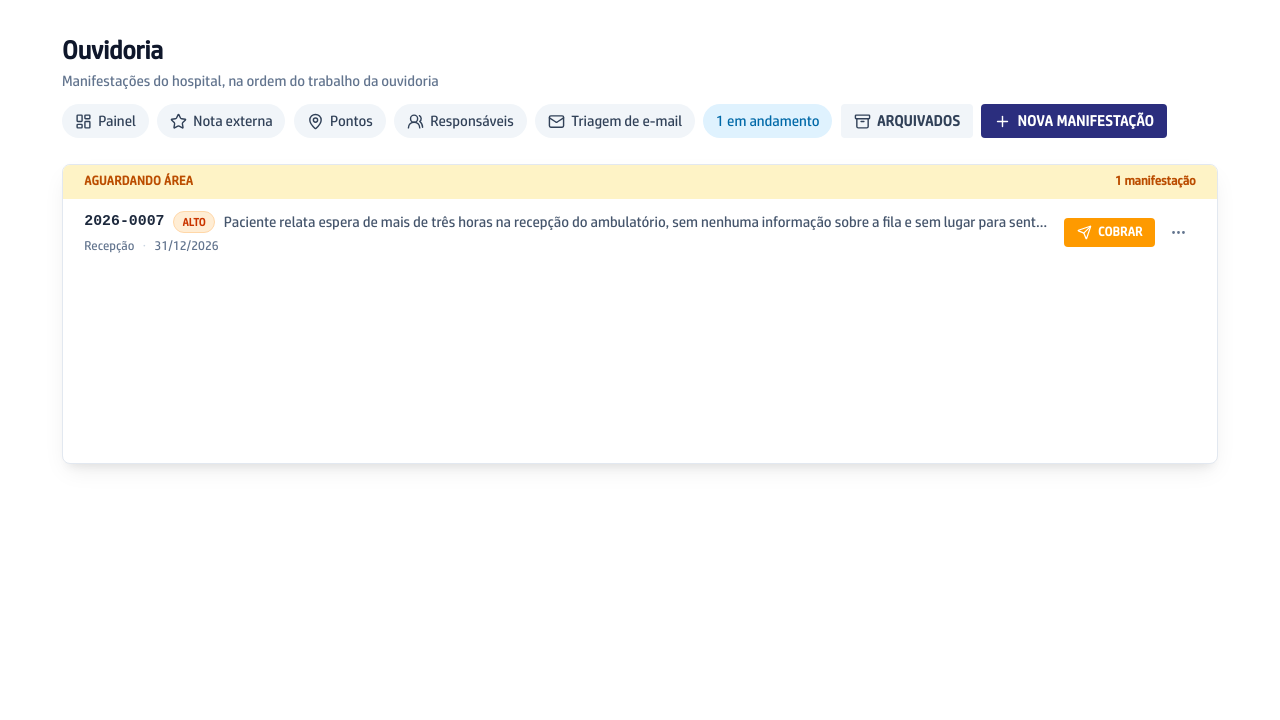
Test: redirecionar a partir da linha da fila (issue #710, PRD #706, ADR 0055) › CONTRAPROVA: o clique abre a tela do redirecionamento, com o motivo obrigatório
Expected: the text "2026-0007" is shown, [84,211,165,233]
Click the button named "Mais ações": [1179, 233] box [1162,216,1196,250]
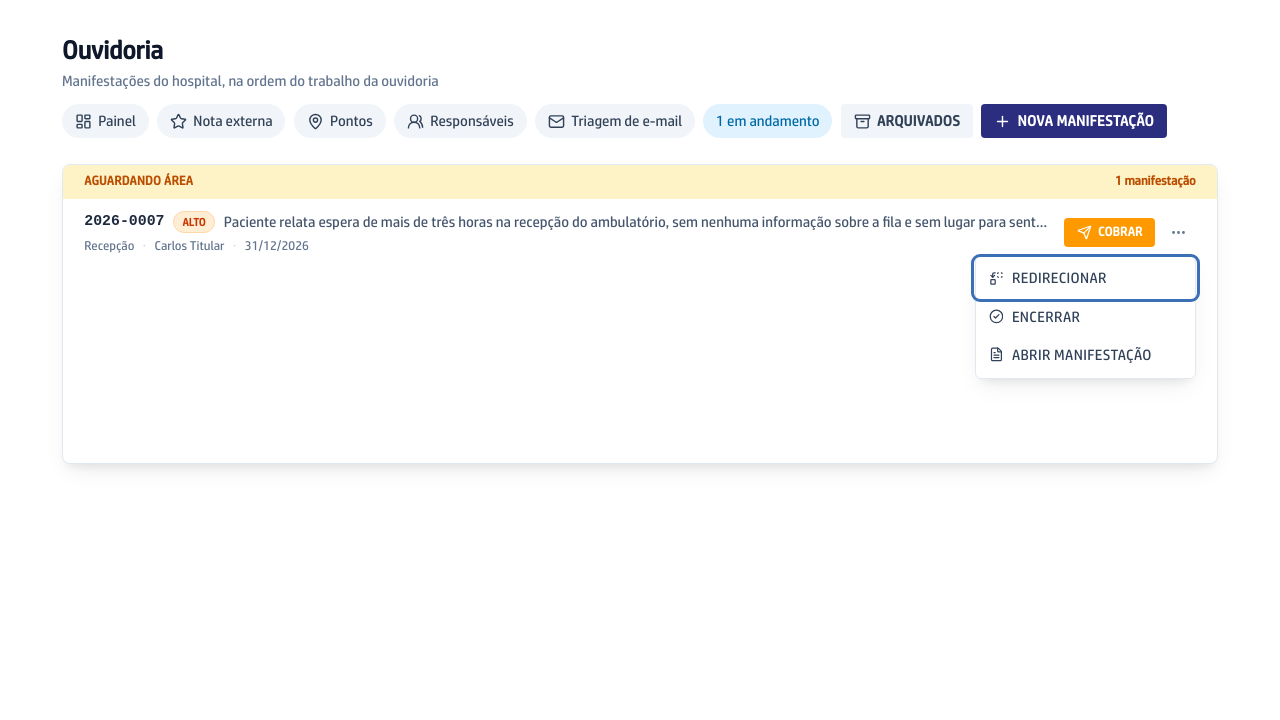
Click the button "Redirecionar": [1085, 278] box [976,259,1195,297]
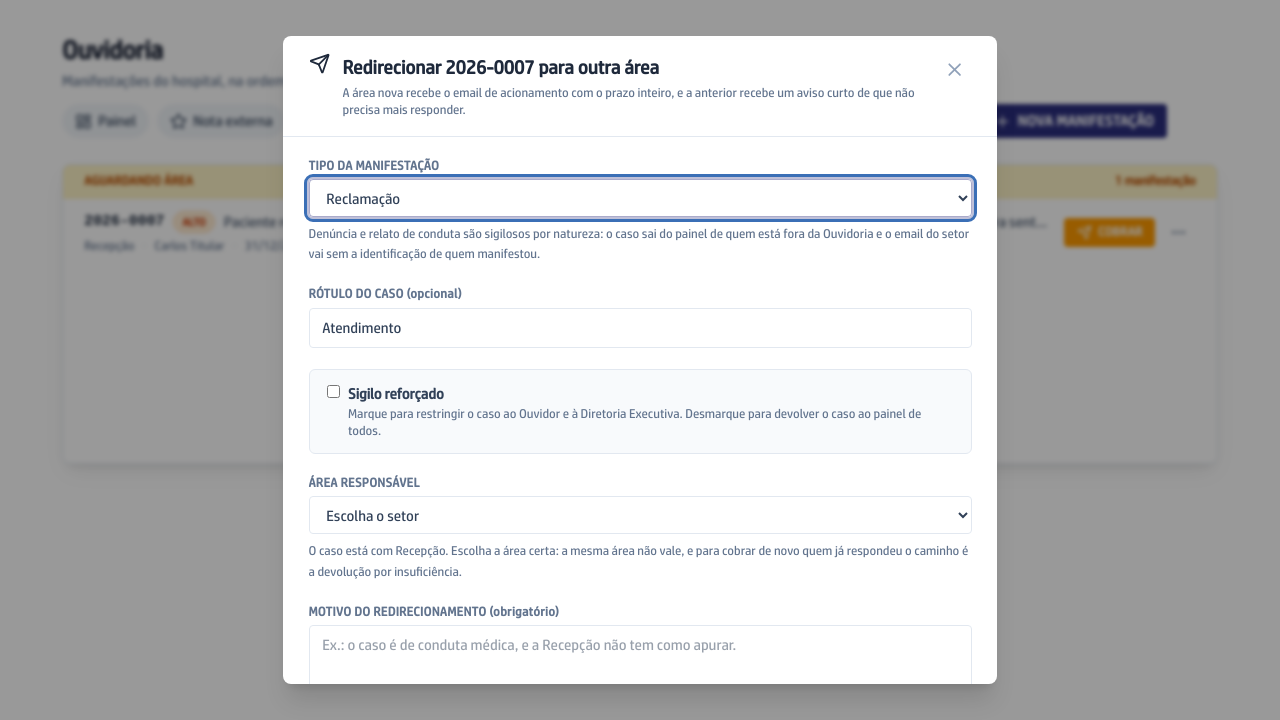
Expected: the heading "Redirecionar 2026-0007 para outra área" is shown, [342,56,659,78]
Expected: the text box labelled "Motivo do redirecionamento (obrigatório)" is shown, [308,625,972,684]
Expected: the dropdown labelled "Área responsável" shows "Escolha o setor", [308,496,972,534]
